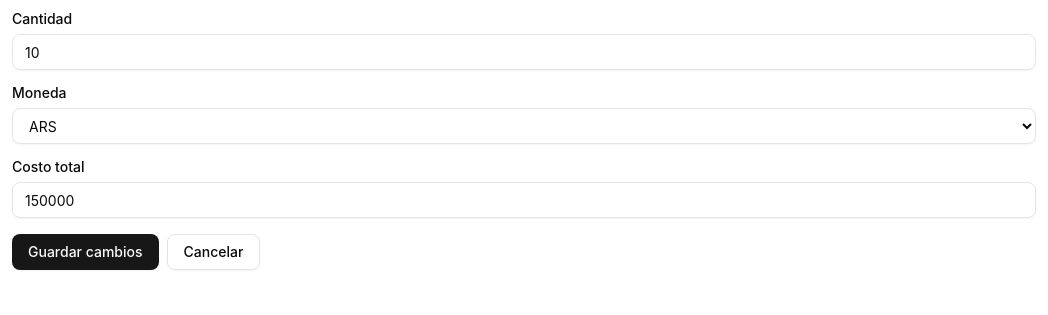
Test: EditHoldingForm › shows a field error and sends nothing for a quantity of 0
Replace the text in the field labelled "Cantidad" with "0" at (524, 52), box [12,34,1036,70]
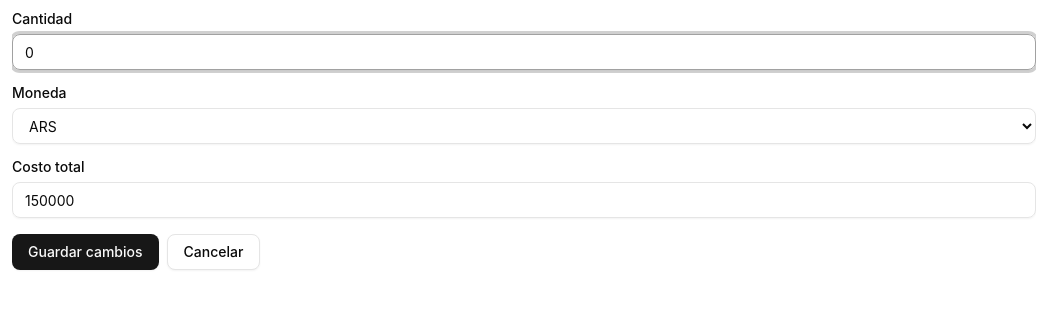
Click the button "Guardar cambios" at (85, 252), box [12,234,158,270]
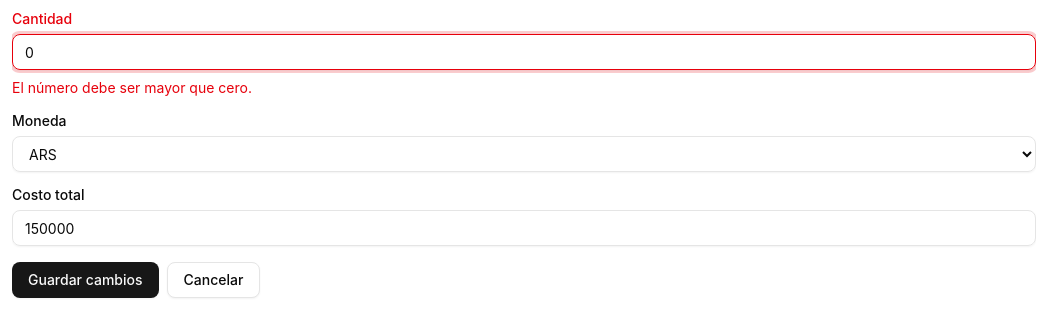
Now the text "El número debe ser mayor que cero." is shown, box [12,79,252,96]
